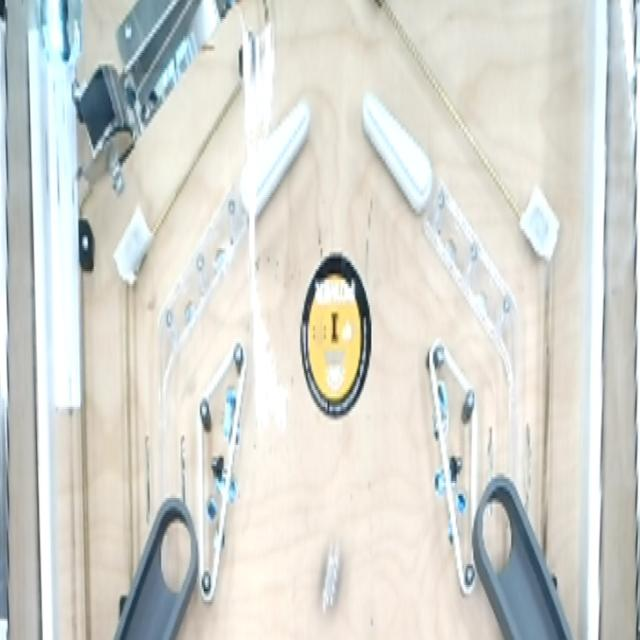ball: (318, 532, 346, 618)
flipper-left: (359, 88, 436, 221)
flipper-right: (238, 95, 311, 221)
